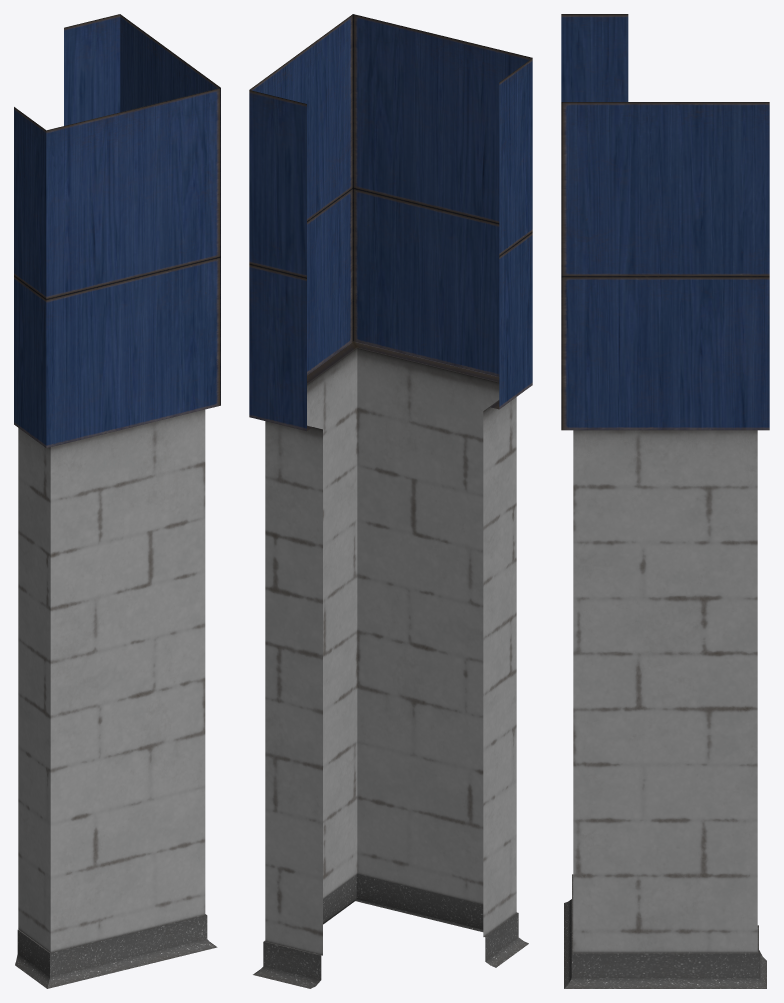
Rendered from Cafateria Corner Pillar.fbx.
The picture shows the model from 3 angles, left to right: view 1: azimuth 30°, elevation 25°; view 2: azimuth 150°, elevation 25°; view 3: azimuth 270°, elevation 25°; orthographic projection. The views are drawn at different scales.
Parts seen in each view (by area): view 1: Cafateria_Corner_Pillar; view 2: Cafateria_Corner_Pillar; view 3: Cafateria_Corner_Pillar.
Boxes of the visible parts, bbox=[...] form: Cafateria_Corner_Pillar: bbox=[14, 14, 220, 988]; Cafateria_Corner_Pillar: bbox=[249, 14, 532, 988]; Cafateria_Corner_Pillar: bbox=[561, 14, 769, 988].
Bounding box in the file's own units: 88.4 × 416 × 88.4.
